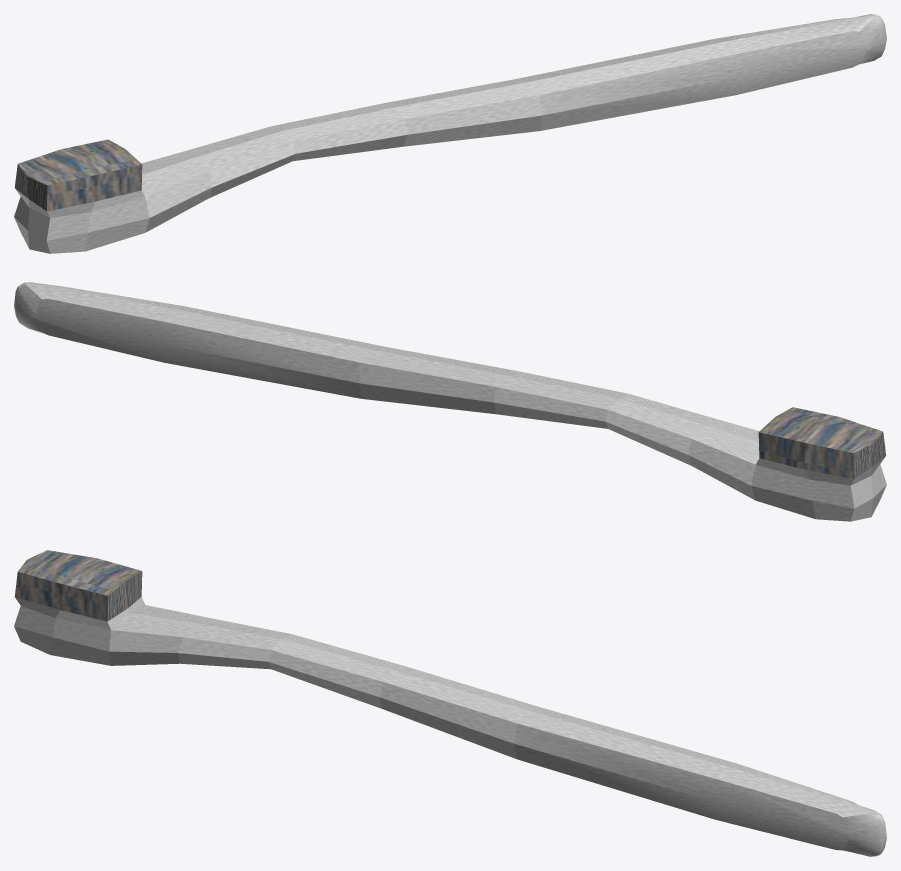
Rendered from toothbrushWTextures.fbx.
3 renders of one model, top to bottom at view 1: azimuth 30°, elevation 25°; view 2: azimuth 150°, elevation 25°; view 3: azimuth 330°, elevation 25°, orthographic.
Parts seen in each view (by area): view 1: toothbrush1; view 2: toothbrush1; view 3: toothbrush1.
Part boxes in pixels (bbox=[...]): toothbrush1: bbox=[14, 14, 886, 253]; toothbrush1: bbox=[14, 282, 886, 521]; toothbrush1: bbox=[14, 550, 886, 856].
Size of the model in its own units: 0.0487 by 0.0052 by 0.00399.
